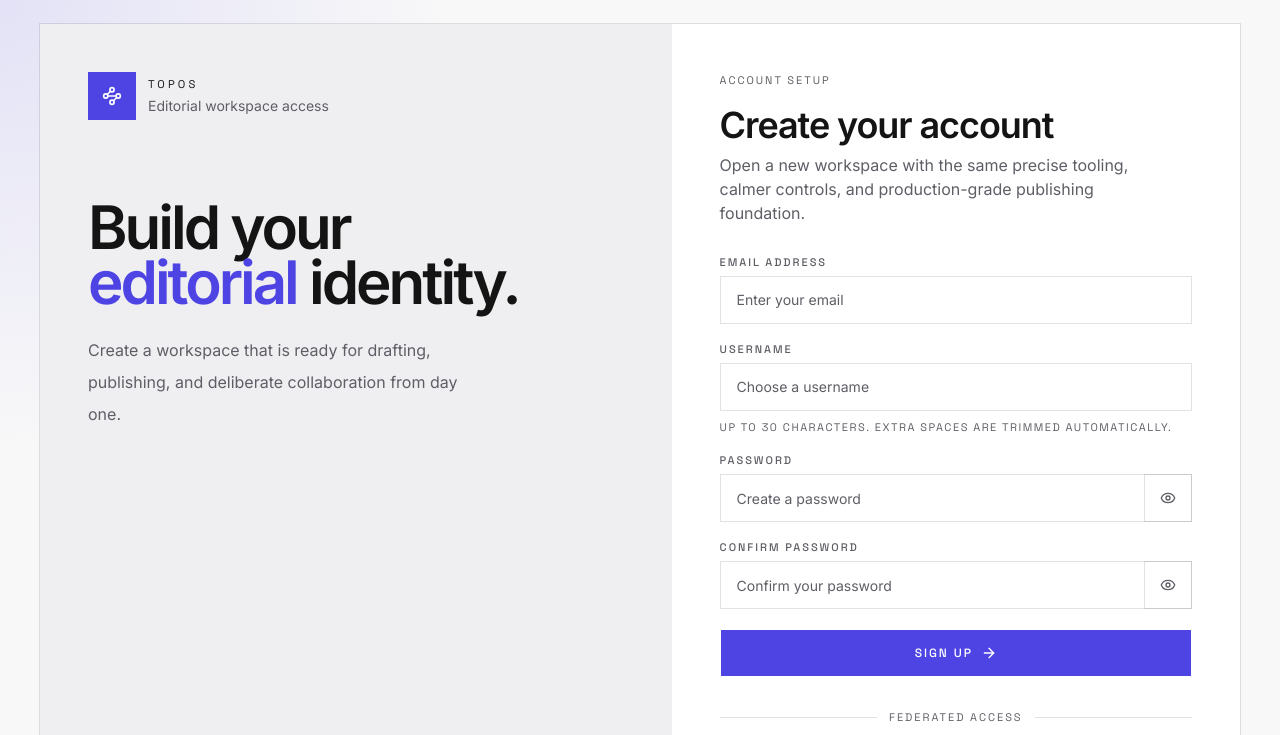
Test: Signup › shows client-side validation when passwords do not match
Type "new@example.com" into the field labelled "Email Address". click: [956, 300]
box: [720,276,1192,324]
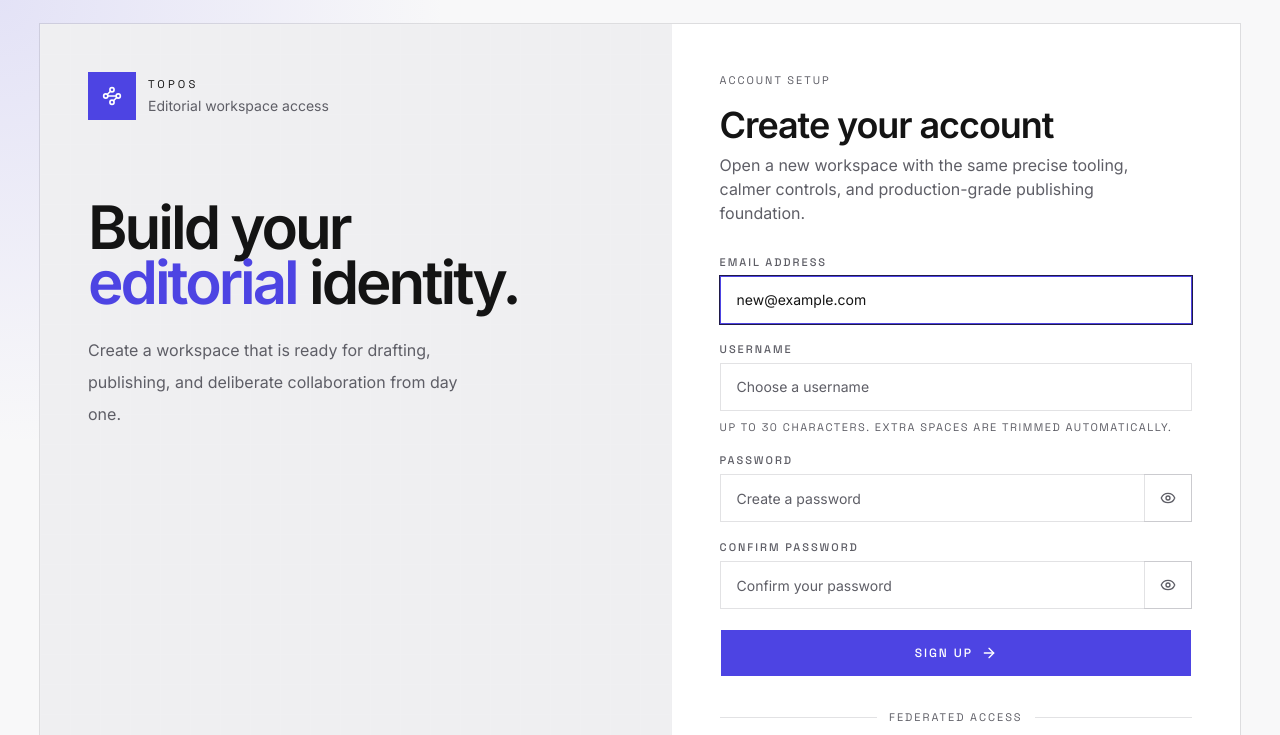
Type "new-user" into the field labelled "Username". click: [956, 386]
box: [720,362,1192,410]
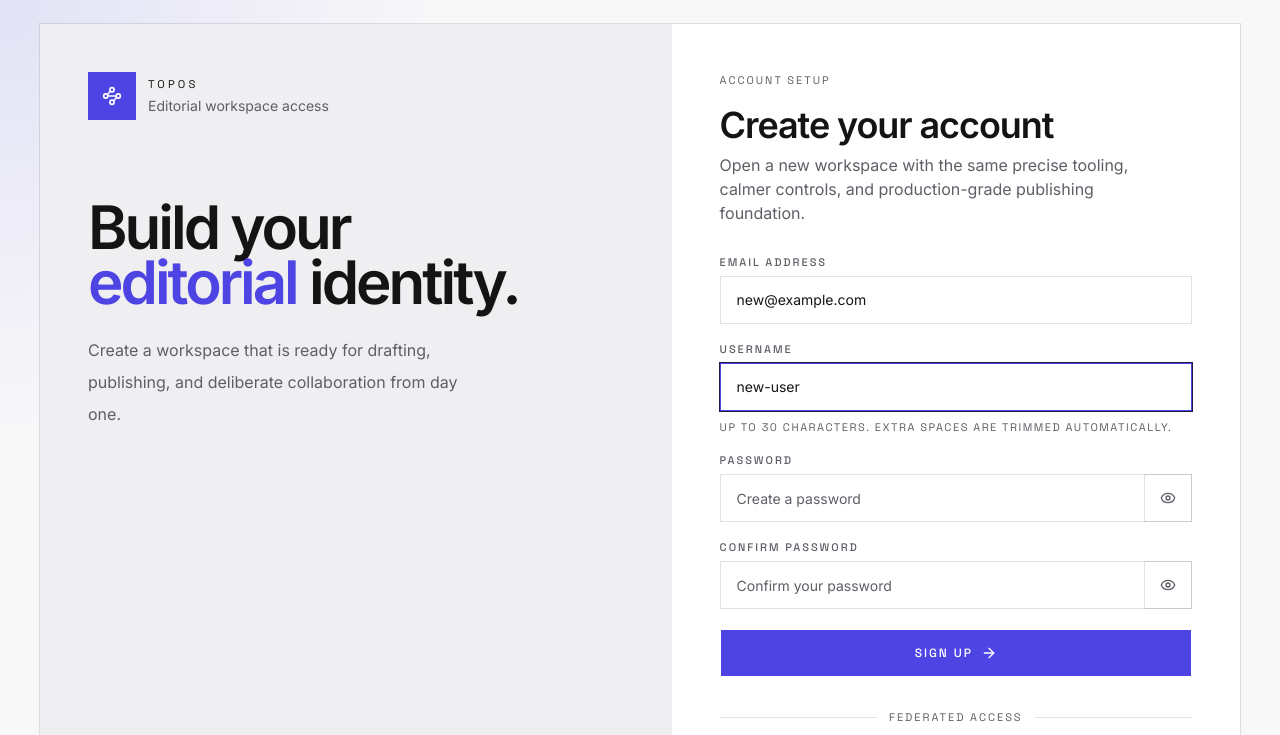
Type "password123" into the password field labelled "Password". click: [956, 498]
box: [720,474,1192,522]
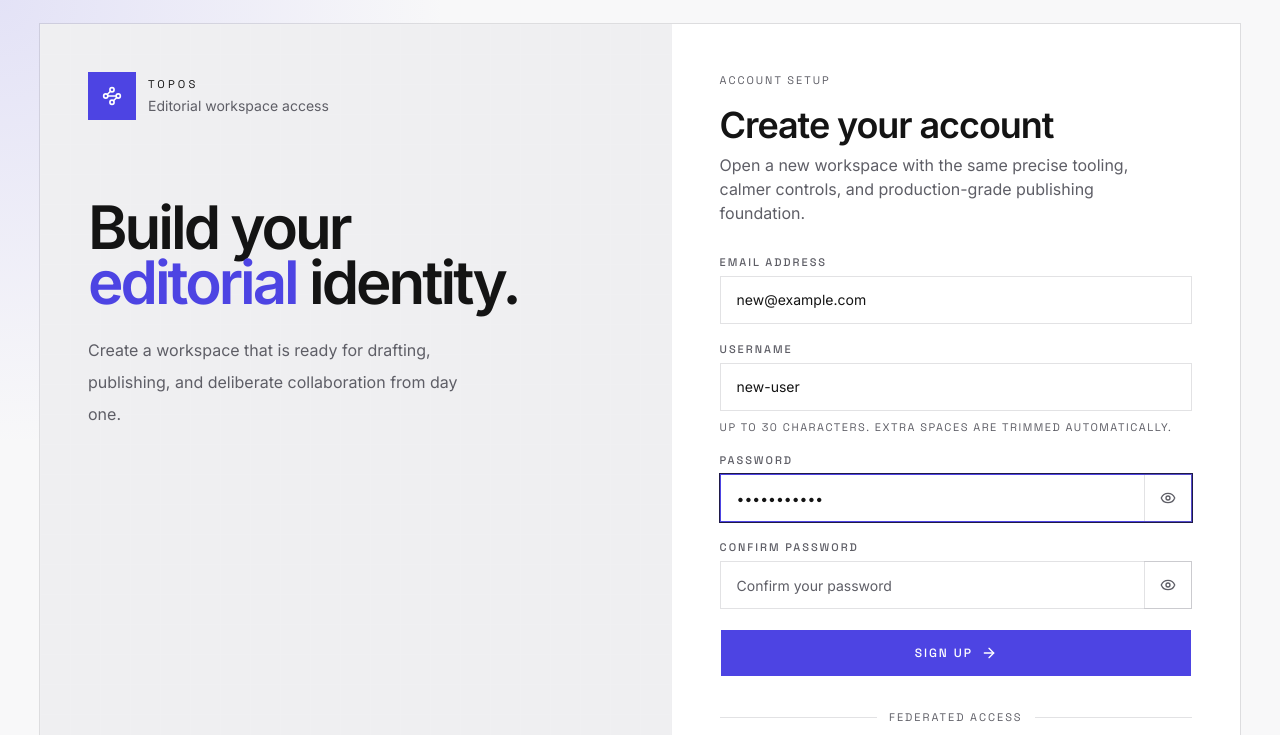
Type "different123" into the password field labelled "Confirm Password". click: [956, 585]
box: [720,561,1192,609]
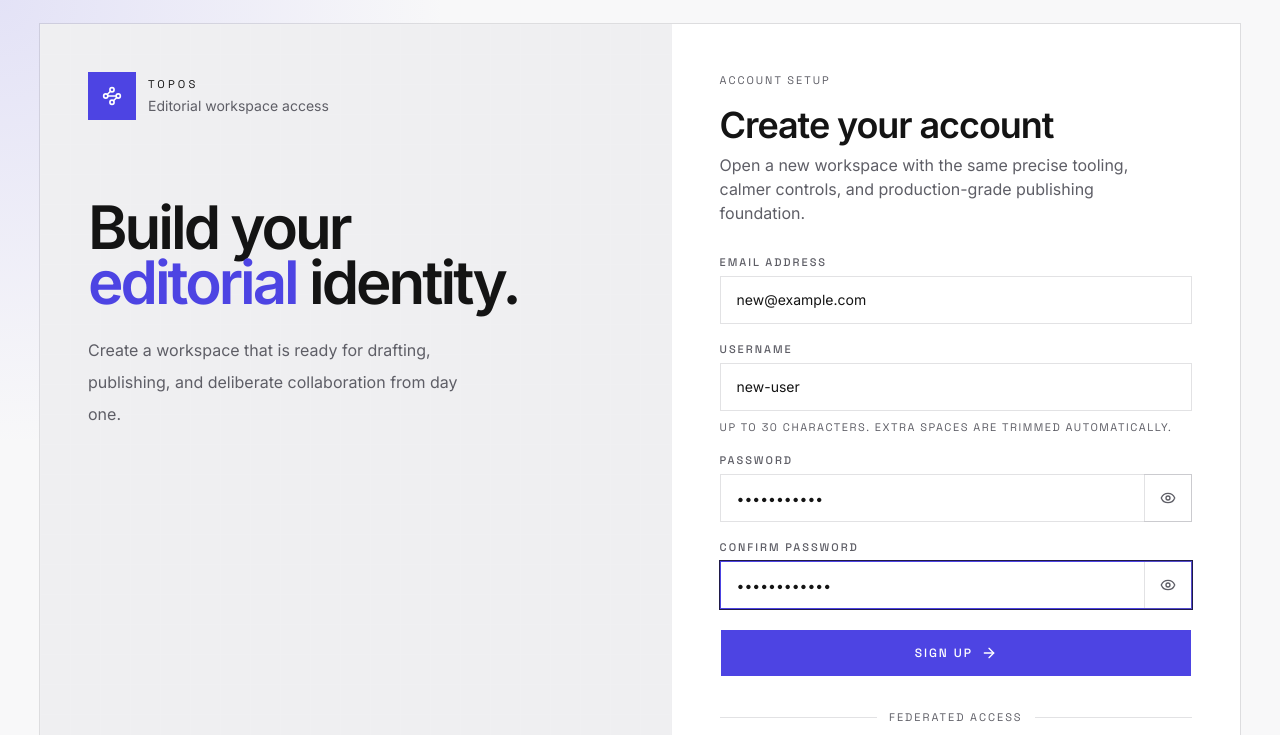
Click the button "Sign Up". click: [956, 653]
box: [720,629,1192,677]
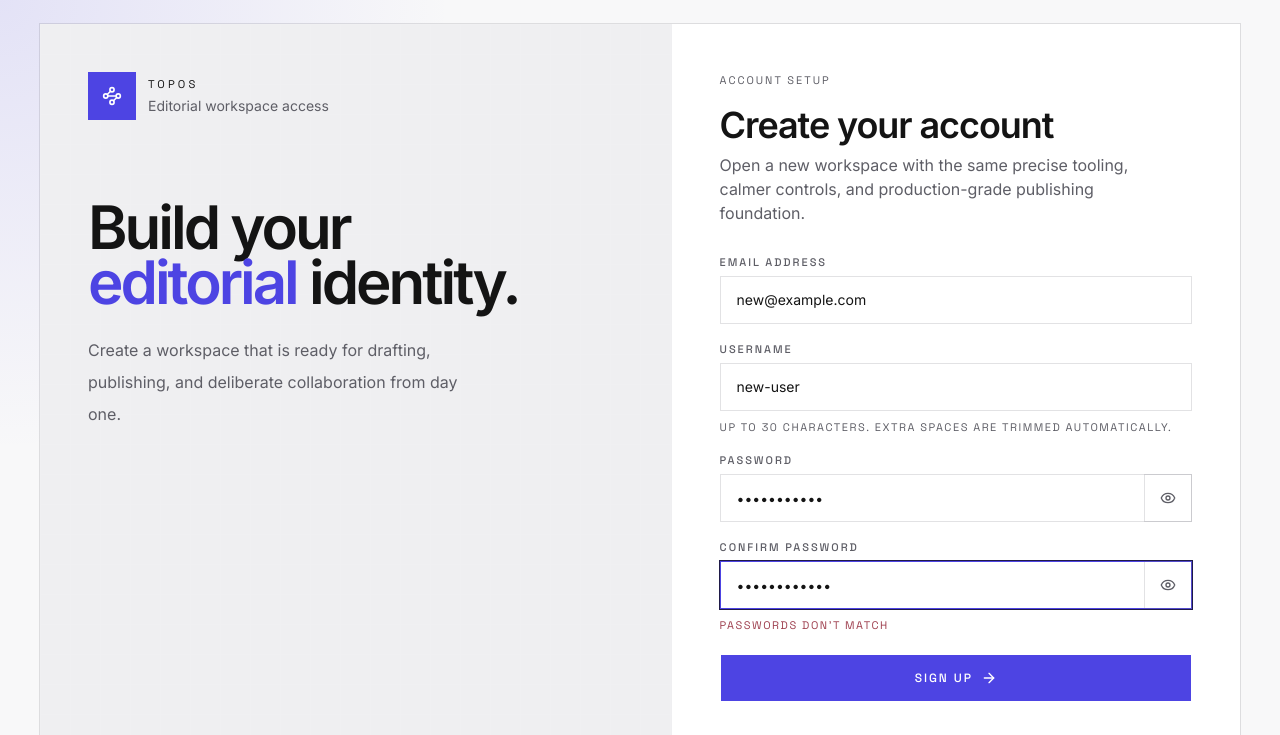
Now the text "Passwords don't match" is shown, box [720,618,889,632]
